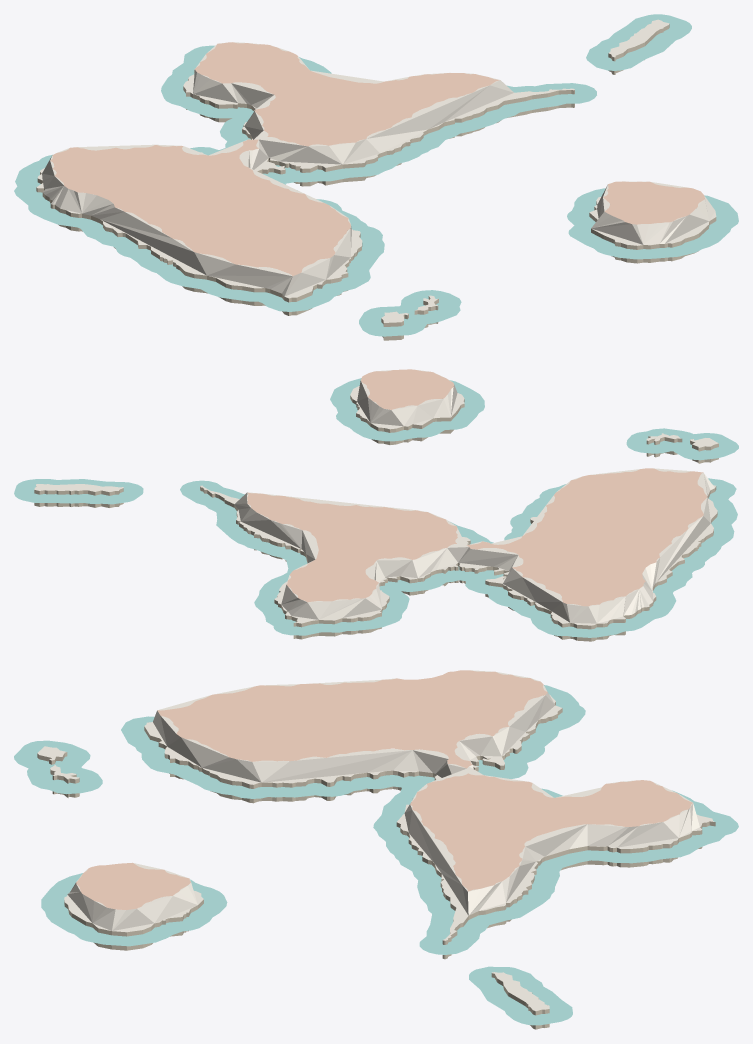
The model's file is guadeloupe.glb.
The picture shows the model from 3 angles, top to bottom: view 1: azimuth 30°, elevation 25°; view 2: azimuth 150°, elevation 25°; view 3: azimuth 270°, elevation 25°; orthographic projection. The views are drawn at different scales.
Visible parts, largest first — view 1: terre, lagon, plage, falaise; view 2: terre, lagon, plage, falaise; view 3: terre, lagon, plage, falaise.
Boxes of the visible parts, bbox=[...] form: terre: bbox=[50, 42, 704, 275]; lagon: bbox=[14, 14, 738, 336]; plage: bbox=[36, 19, 716, 322]; falaise: bbox=[36, 24, 716, 340]; terre: bbox=[247, 369, 707, 606]; lagon: bbox=[14, 378, 738, 637]; plage: bbox=[34, 370, 718, 625]; falaise: bbox=[34, 395, 718, 641]; terre: bbox=[76, 670, 692, 909]; lagon: bbox=[14, 685, 738, 1025]; plage: bbox=[37, 670, 714, 1011]; falaise: bbox=[37, 702, 715, 1029].
Bounding box in the file's own units: 1.06 × 0.05 × 0.928.
